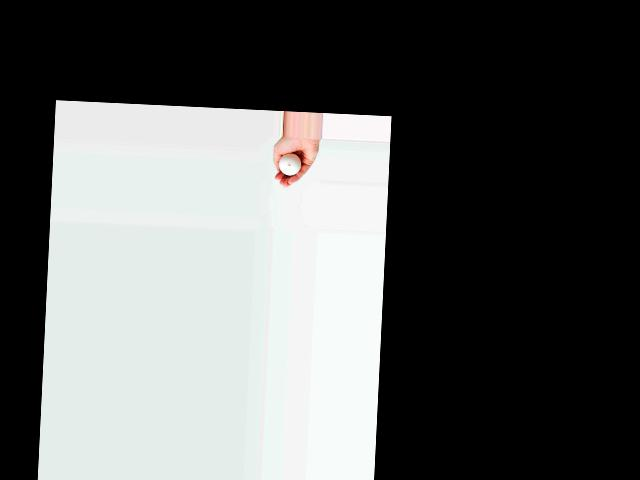egg: (279, 153, 301, 176)
